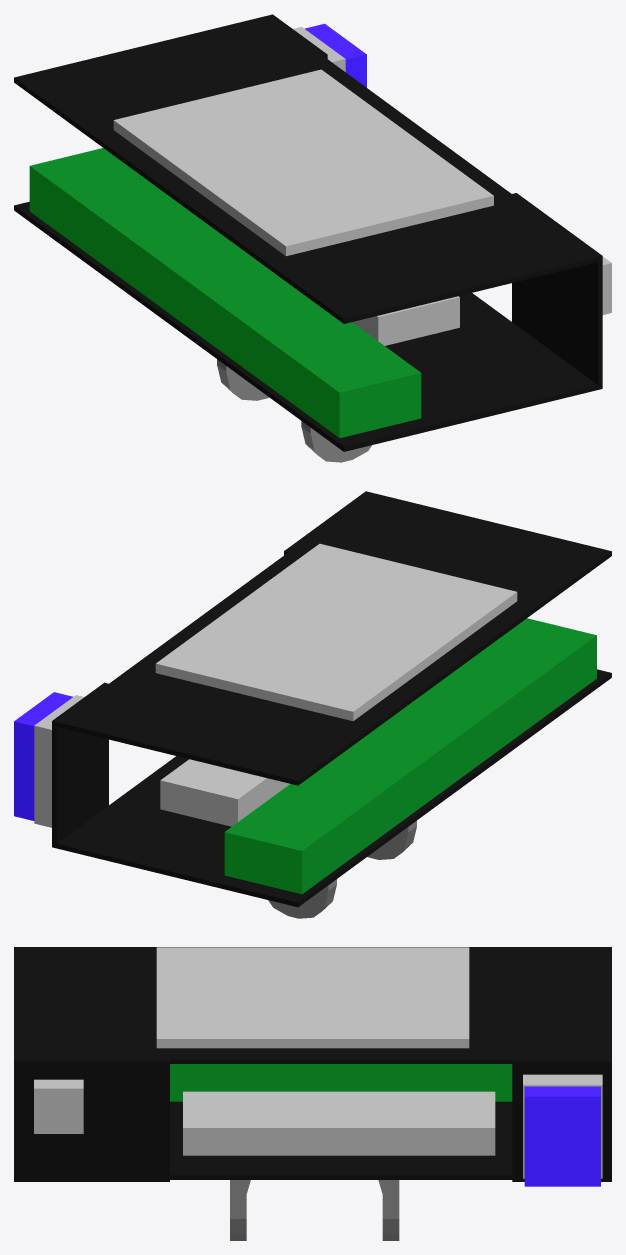
File: platform.dae
3 renders of one model, top to bottom at view 1: azimuth 30°, elevation 25°; view 2: azimuth 150°, elevation 25°; view 3: azimuth 270°, elevation 25°, orthographic. The views are drawn at different scales.
Visible parts, largest first — view 1: base_link_001_001_002; view 2: base_link_001_001_002; view 3: base_link_001_001_002.
Boxes of the visible parts, left/top/right/bottom form: base_link_001_001_002: left=14, top=14, right=611, bottom=462; base_link_001_001_002: left=14, top=491, right=611, bottom=918; base_link_001_001_002: left=14, top=947, right=611, bottom=1240.
Bounding box in the file's own units: 0.096 × 0.18 × 0.081.
